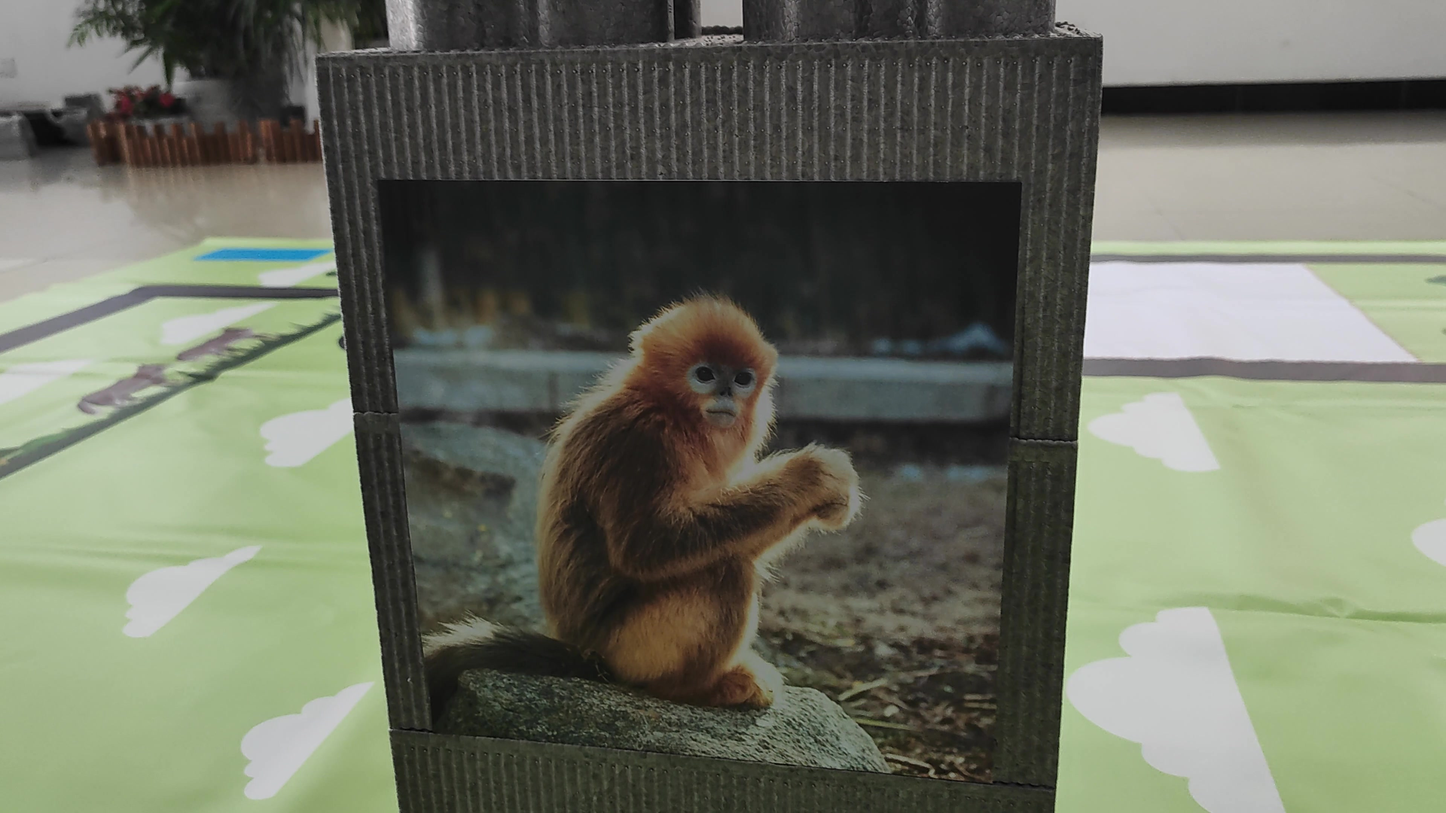monkey: (419, 225, 878, 741)
